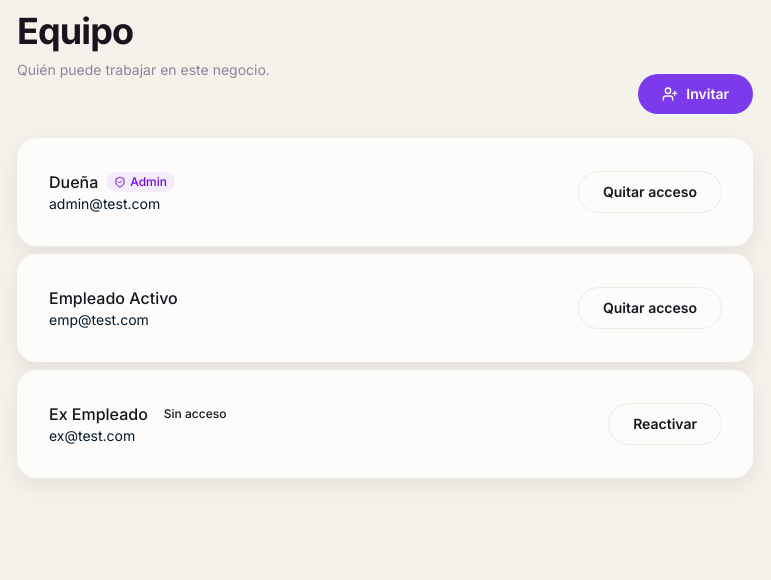
Test: EquipoPage — quitar y devolver acceso › el 409 del último admin se explica, no aparece como error genérico
Expected: the text "Dueña" is shown, [49,172,98,192]
Step 1. Click the button "Quitar acceso" in the row of "admin@test.com" → (650, 192), box [579,172,721,212]
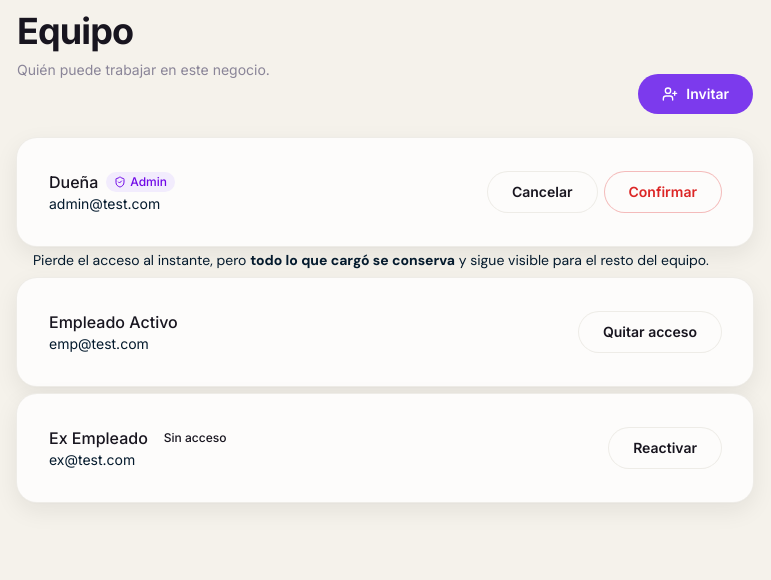
Step 2. Click the button "Confirmar" → (663, 192), box [604,172,721,212]
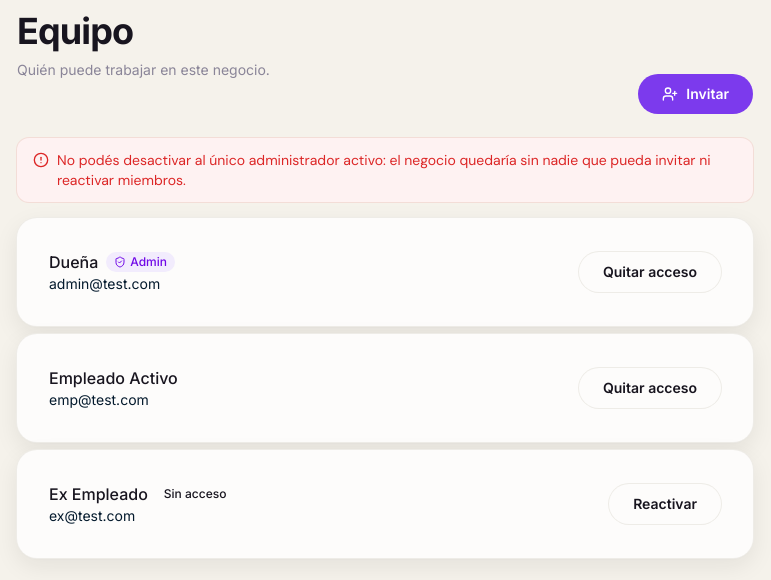
Expected: the text "único administrador activo" is shown, [57,151,711,189]
